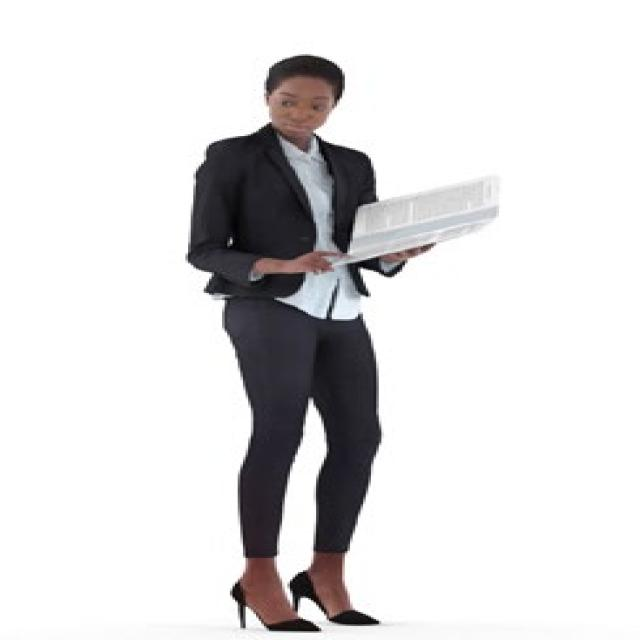standing: (179, 53, 434, 636)
